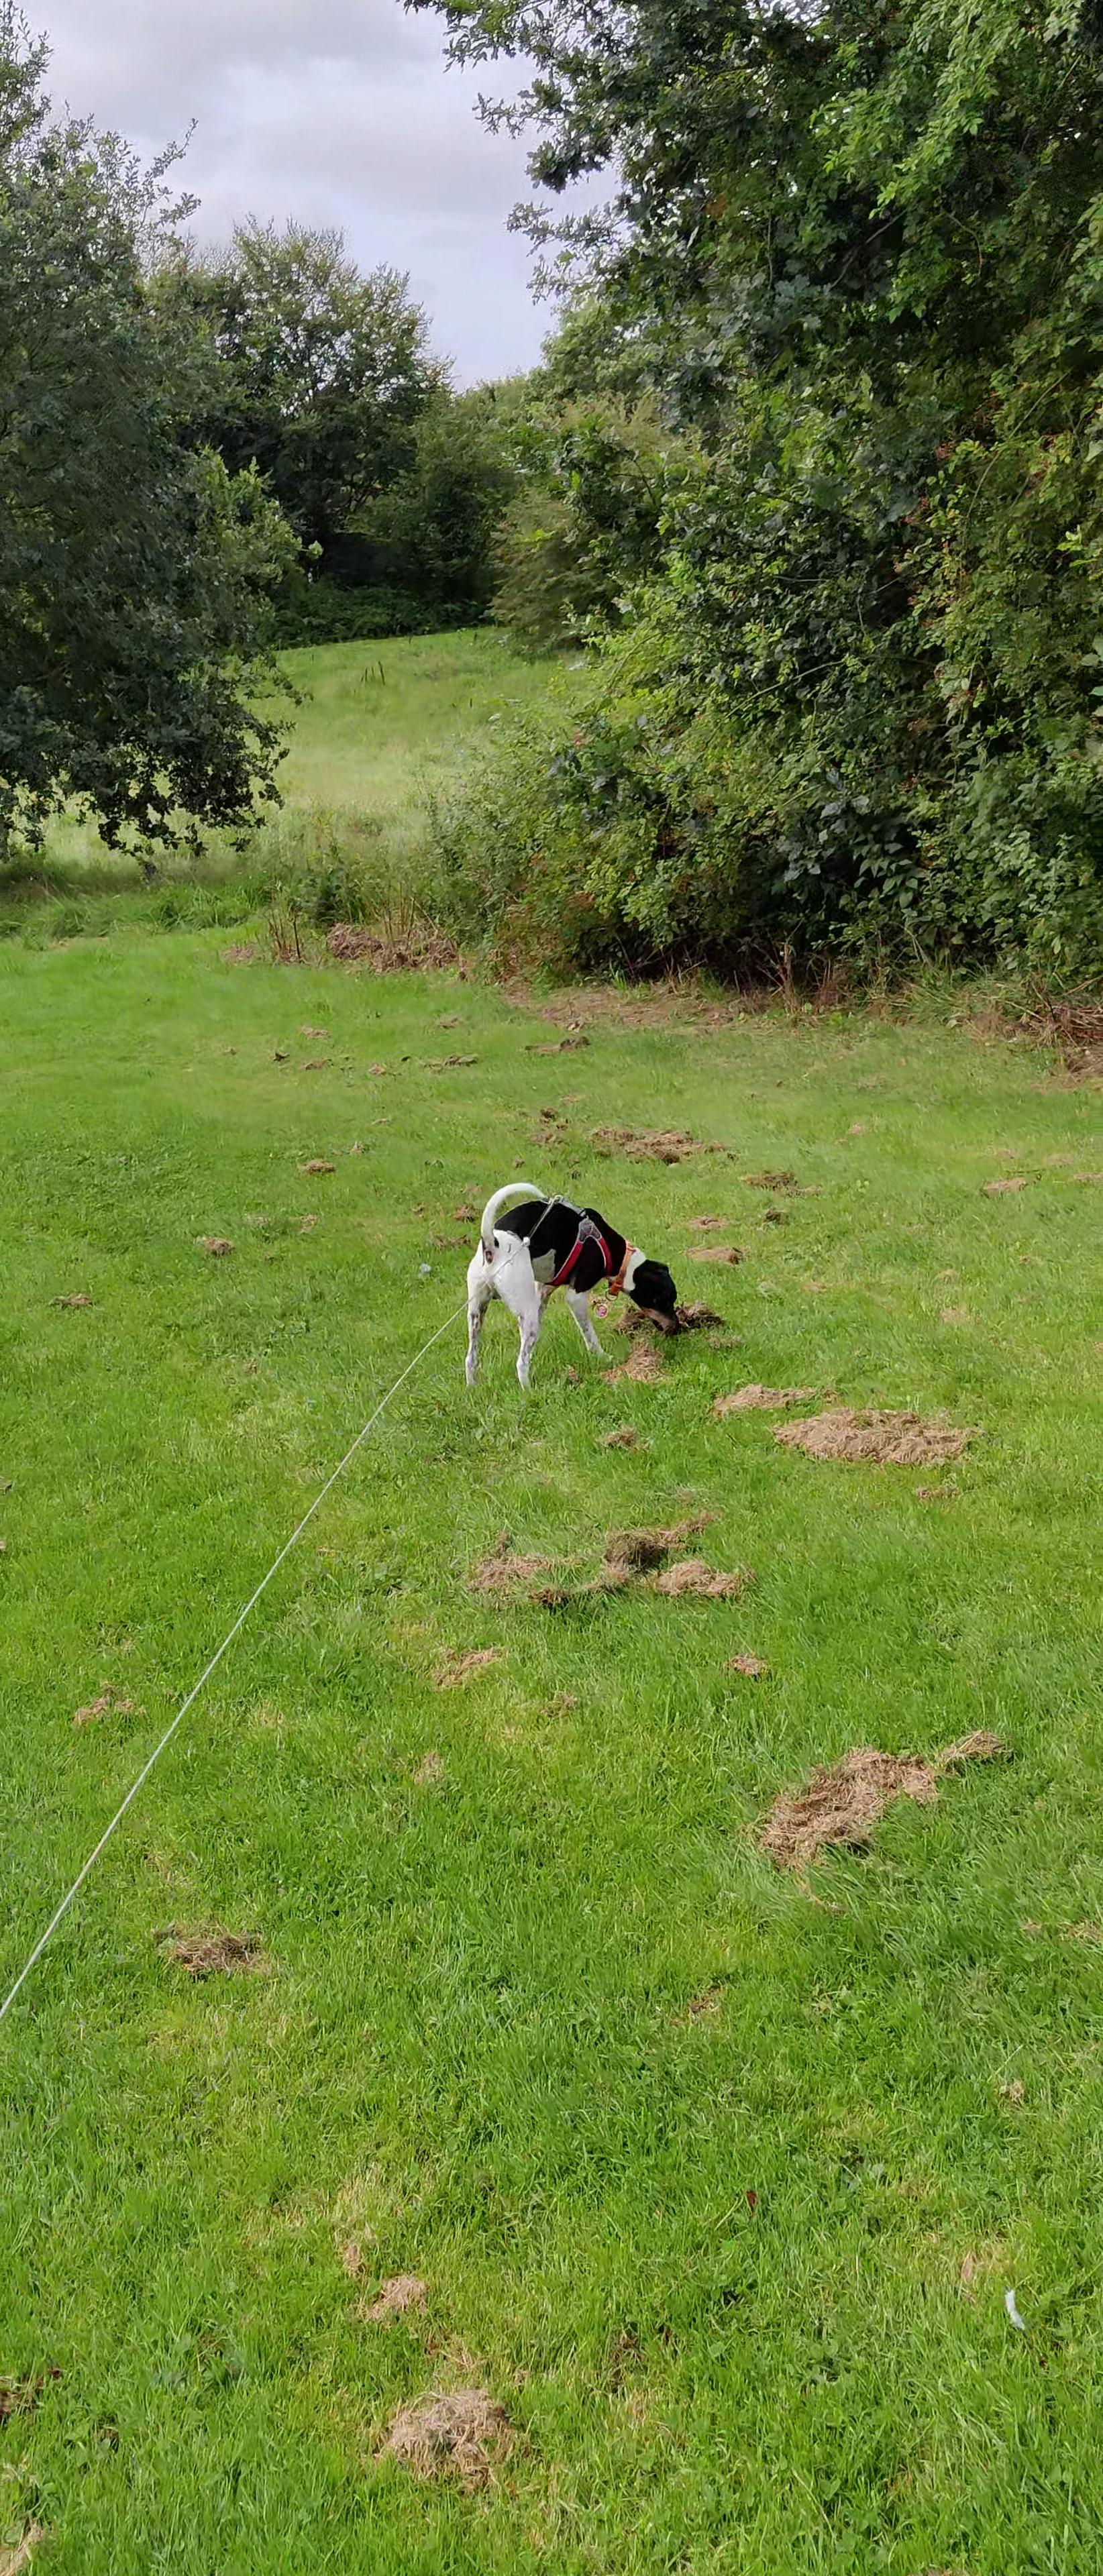Dog: (459, 1180, 689, 1395)
